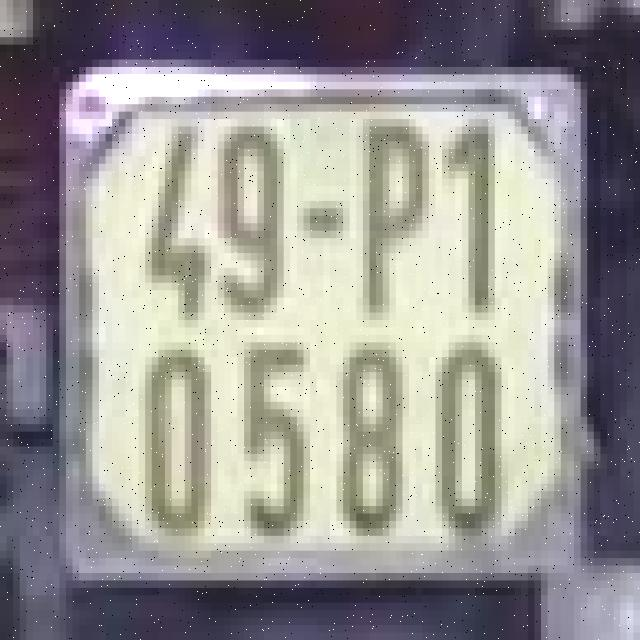0: (422, 339, 515, 547), (135, 335, 221, 543)
1: (435, 104, 528, 328)
4: (128, 116, 214, 332)
5: (234, 331, 333, 540)
8: (330, 324, 416, 547)
9: (208, 112, 294, 320)
P: (356, 86, 436, 331)
